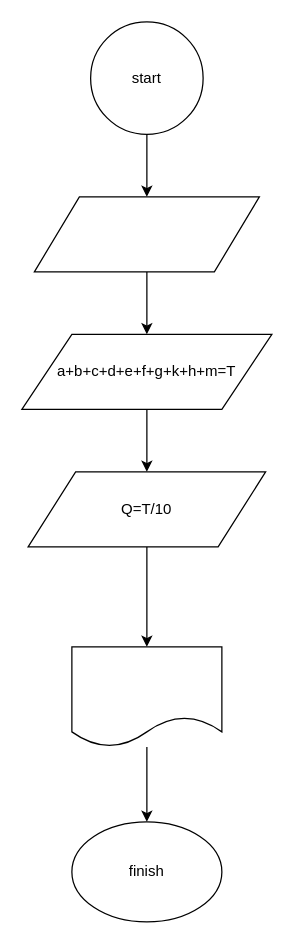
Image size: 294x944. Some labels were removed from this diagram. Here are the shapes that lost their labels. From the top down, the box of each, then its label:
(33, 196, 259, 272): a,b,c,d,e,f,g,k,h,m ededlerinin ededi ortasi
(71, 646, 222, 747): Q-nu ekrana verin
